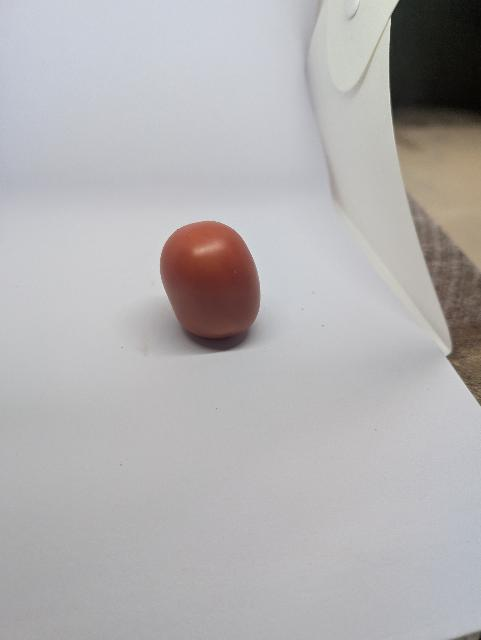red: (157, 219, 273, 354)
